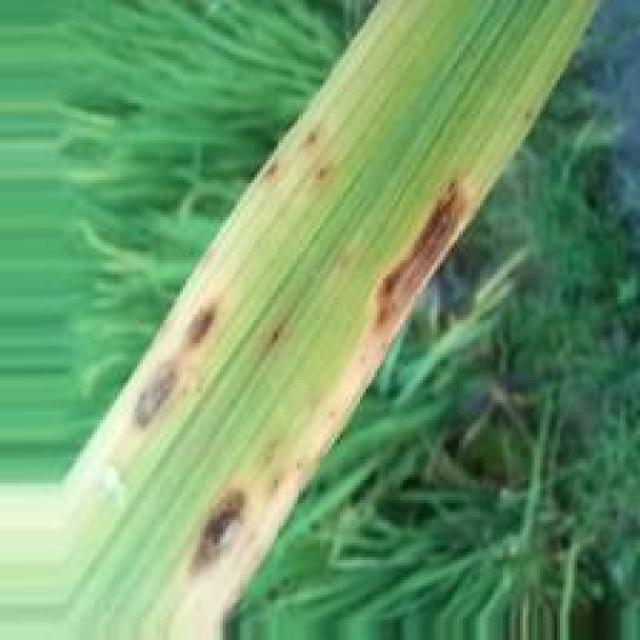Rice Tungro: (362, 171, 481, 359), (175, 483, 257, 589), (125, 359, 180, 440), (177, 300, 224, 355)
